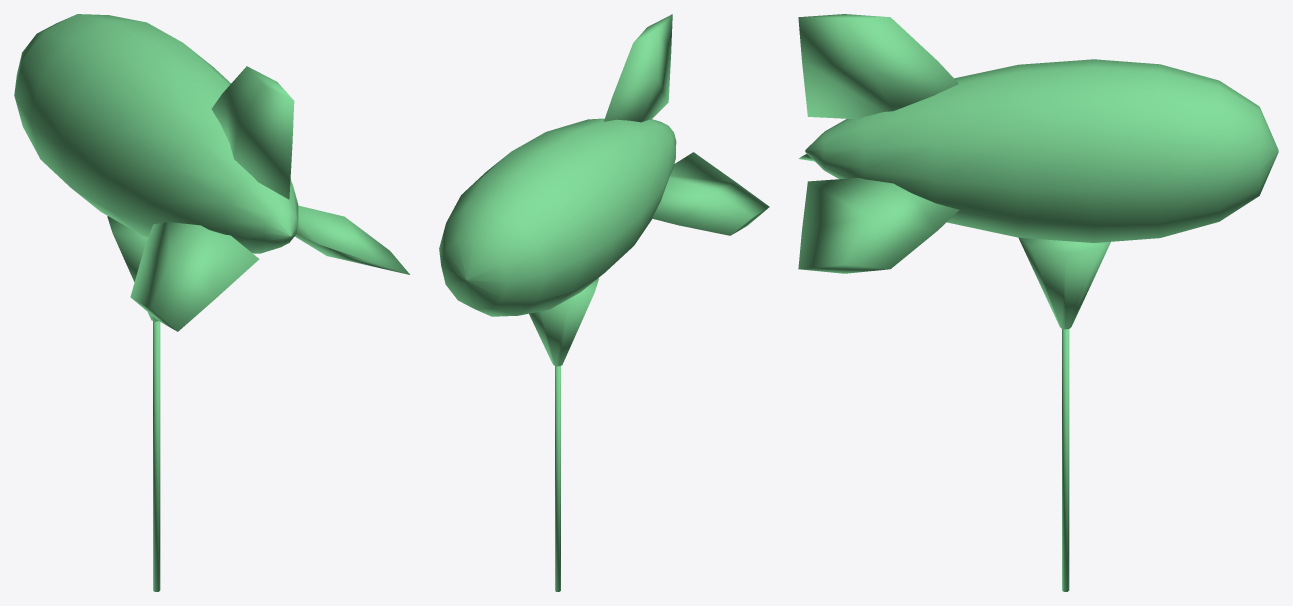
The model's file is barrage_balloon_col.gltf.
3 views of the same model, side by side, from view 1: azimuth 30°, elevation 25°; view 2: azimuth 150°, elevation 25°; view 3: azimuth 270°, elevation 25° (orthographic). The views are drawn at different scales.
Parts seen in each view (by area): view 1: Envelope, Stabilizer_Fins, Mooring_Cable, Rigging_Harness; view 2: Envelope, Stabilizer_Fins, Rigging_Harness, Mooring_Cable; view 3: Envelope, Stabilizer_Fins, Rigging_Harness, Mooring_Cable.
Boxes of the visible parts, bbox=[...] form: Envelope: bbox=[14, 14, 298, 253]; Stabilizer_Fins: bbox=[130, 66, 409, 331]; Mooring_Cable: bbox=[153, 321, 160, 591]; Rigging_Harness: bbox=[107, 216, 158, 321]; Envelope: bbox=[439, 118, 676, 316]; Stabilizer_Fins: bbox=[603, 14, 769, 235]; Rigging_Harness: bbox=[529, 278, 598, 366]; Mooring_Cable: bbox=[555, 366, 560, 591]; Envelope: bbox=[805, 59, 1278, 242]; Stabilizer_Fins: bbox=[798, 14, 959, 273]; Rigging_Harness: bbox=[1018, 237, 1110, 329]; Mooring_Cable: bbox=[1062, 329, 1069, 591].
Size of the model in its own units: 11.34 by 26.75 by 20.3.
